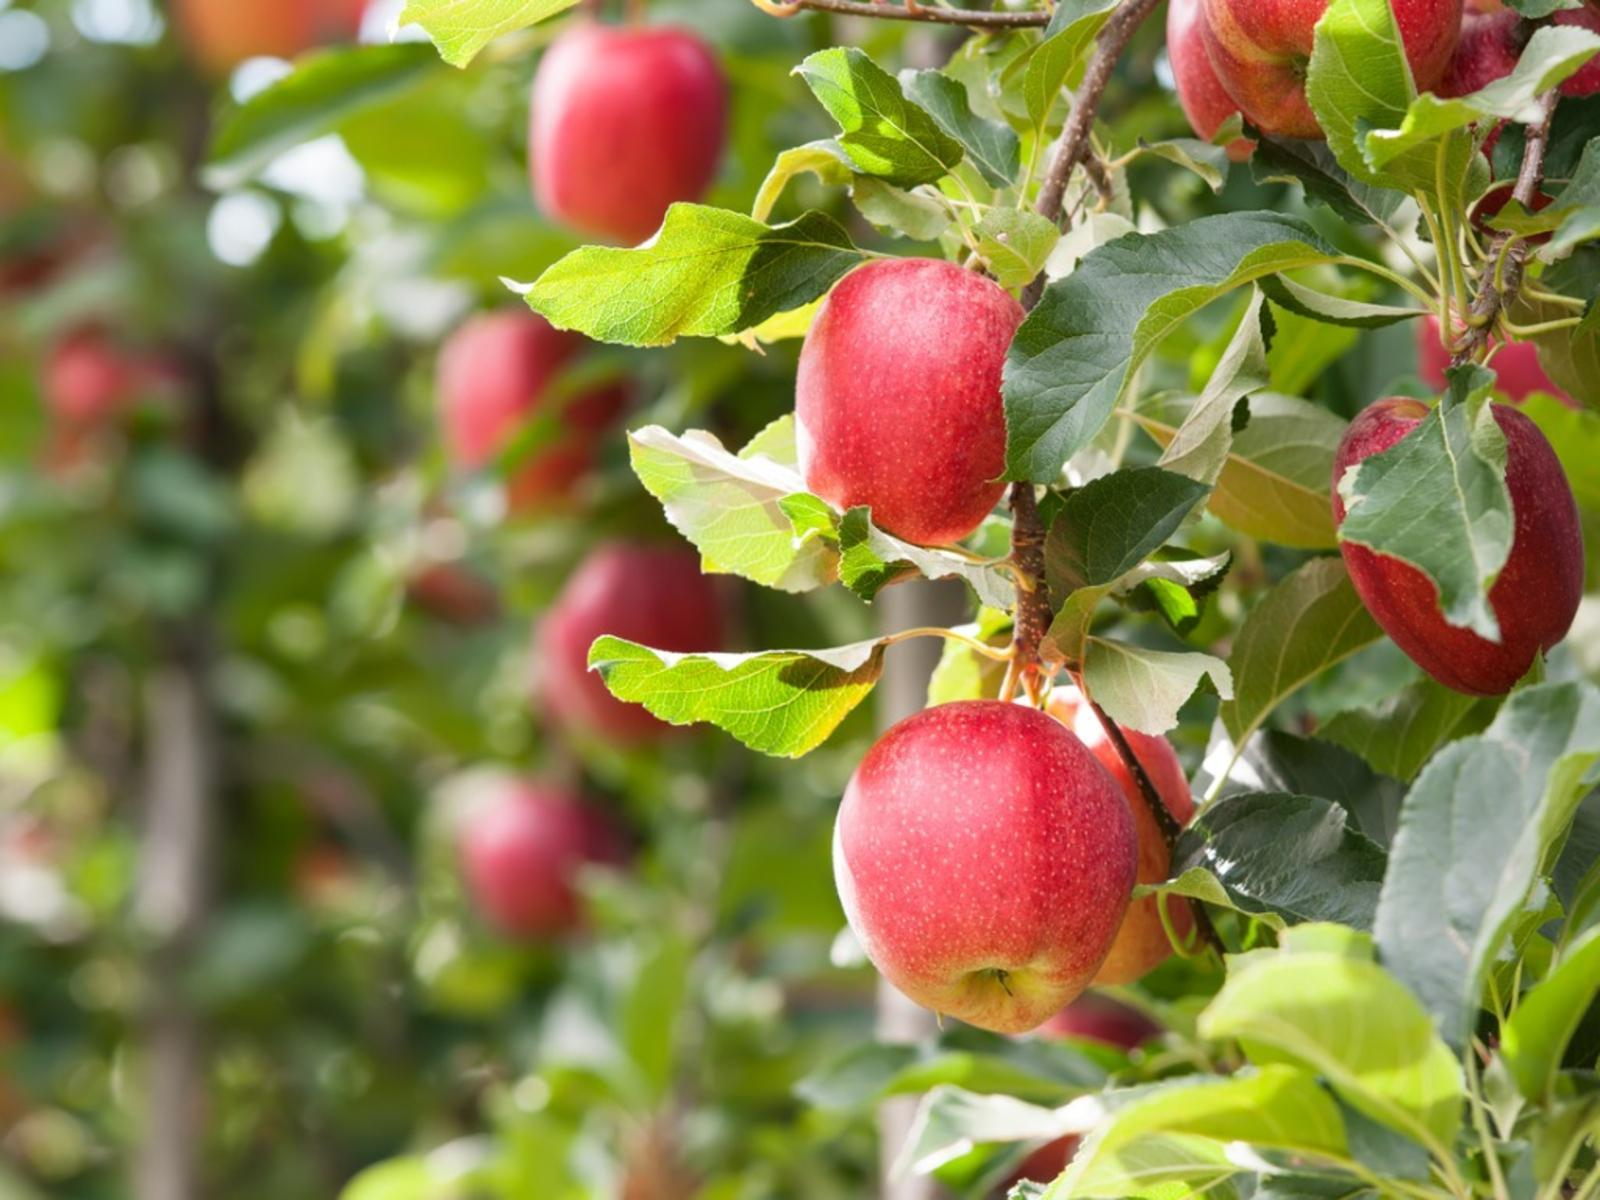apple: (823, 693, 1170, 1030), (1330, 389, 1590, 696), (795, 255, 1018, 550), (1167, 3, 1516, 159), (1169, 3, 1333, 146)
